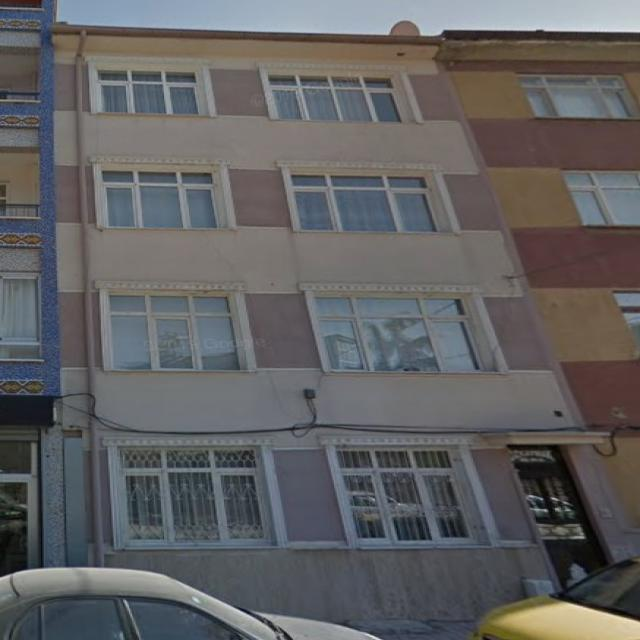Building: (50, 23, 635, 619)
